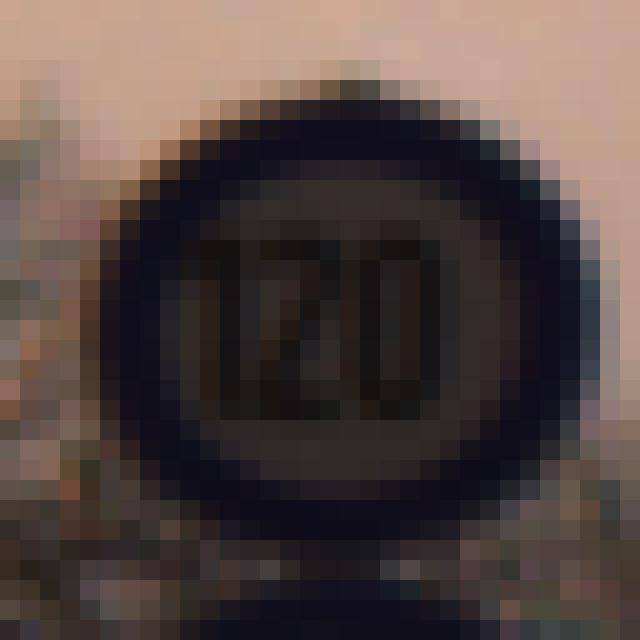SPEED LIMIT 120: (82, 89, 568, 522)
